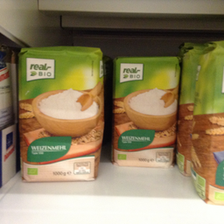flour: (16, 46, 105, 183), (111, 54, 181, 169)
